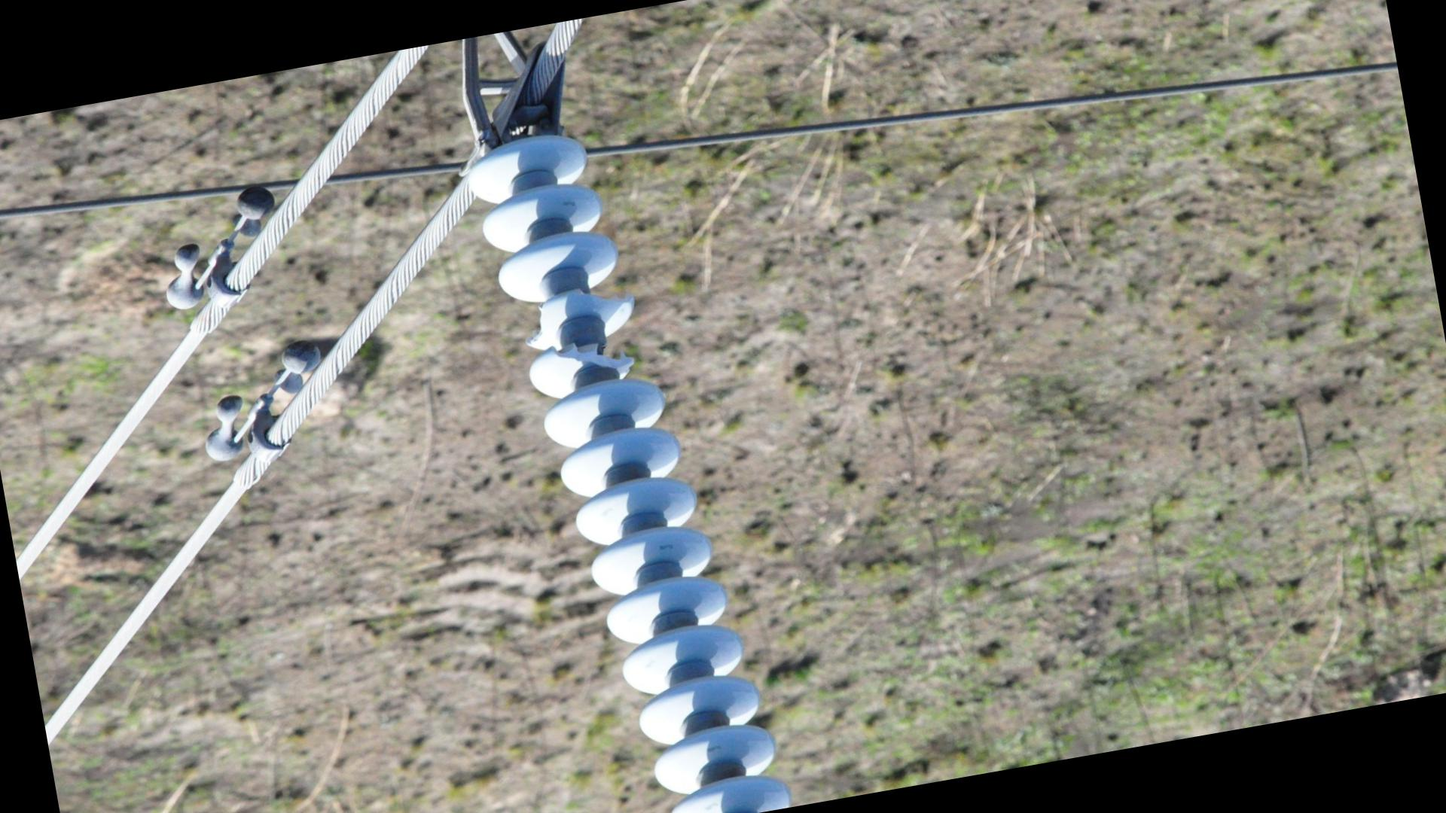damper: (184, 333, 344, 479), (146, 177, 297, 322)
